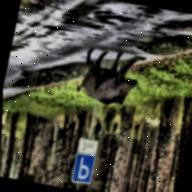boar: (65, 35, 160, 137)
